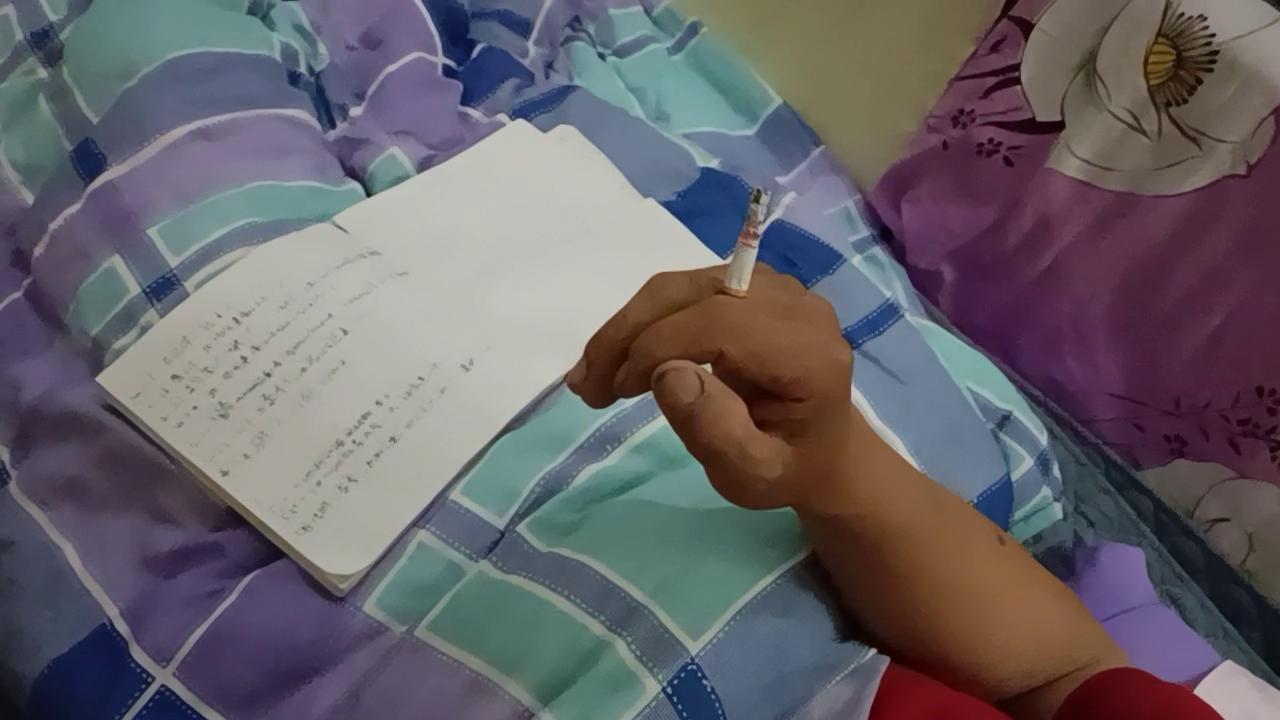smoke: (708, 184, 774, 323)
